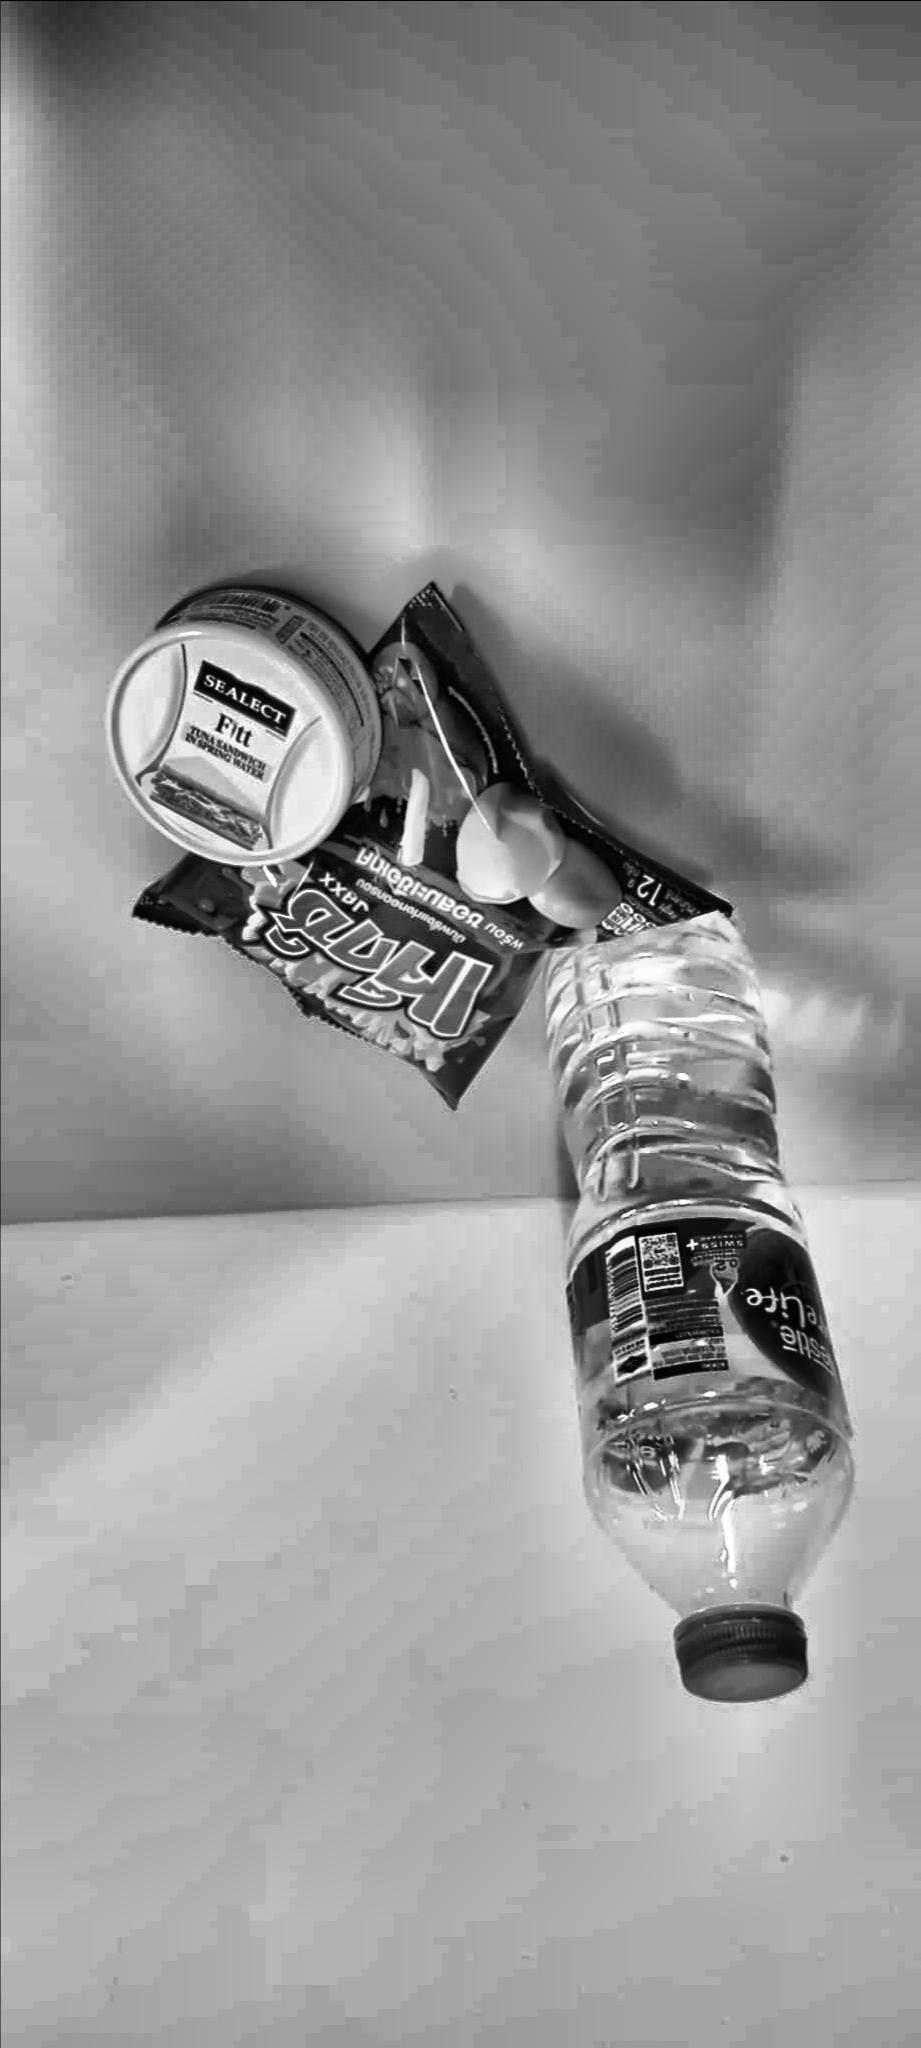can: (106, 598, 390, 922)
snackbag: (118, 582, 760, 1127)
waterbottle: (529, 898, 865, 1727)
